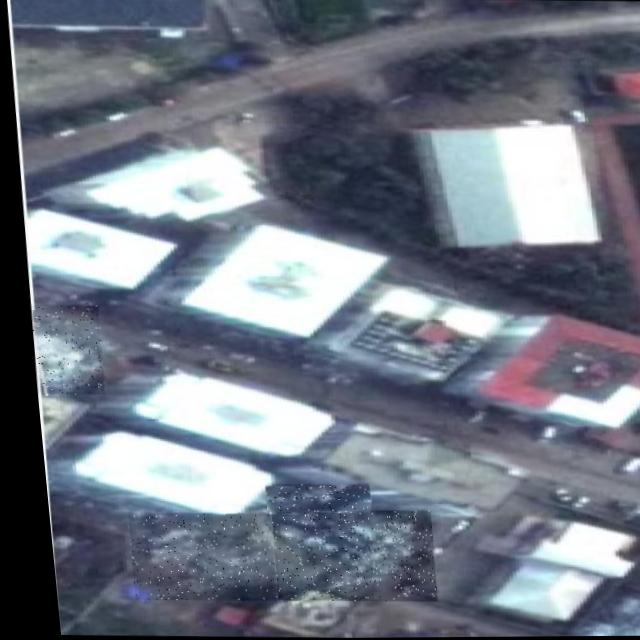Rubble: (258, 508, 426, 603), (115, 512, 265, 602), (23, 304, 97, 394), (254, 483, 360, 514)
